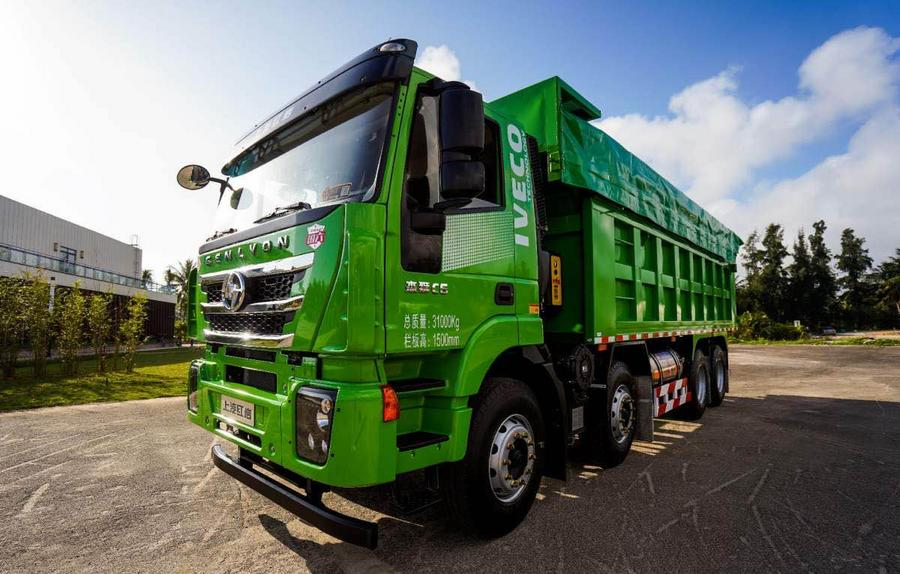truck: (171, 37, 794, 548)
